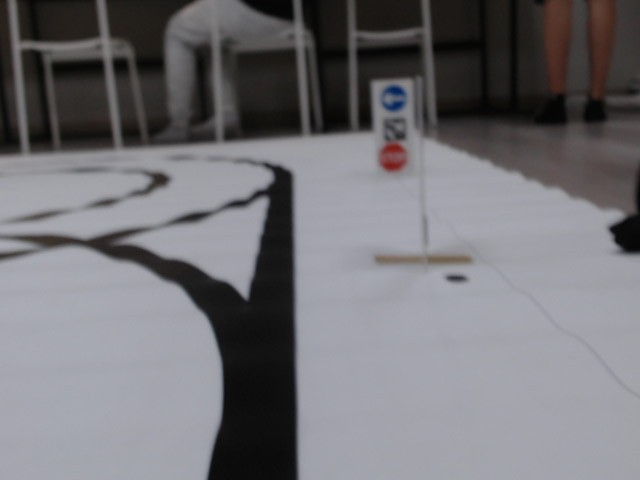Stop: (379, 144, 407, 170)
